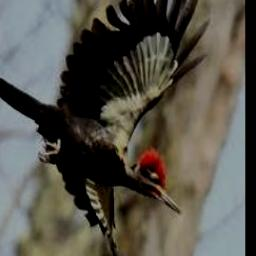Woodpecker: (0, 0, 210, 256)
